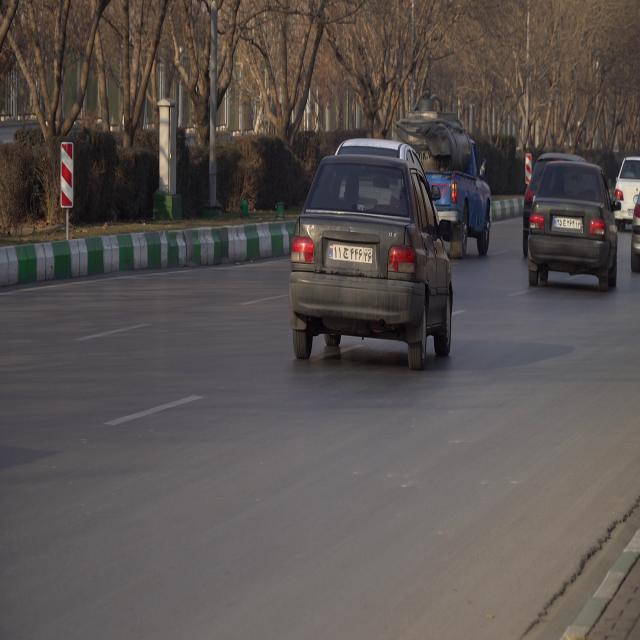truck: (289, 155, 449, 374), (402, 119, 493, 250), (532, 160, 614, 286), (617, 154, 640, 226)
